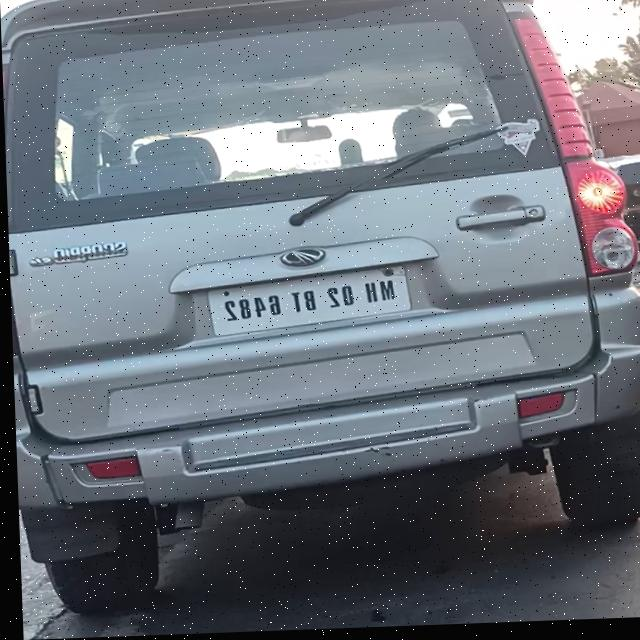plate: (204, 266, 412, 339)
